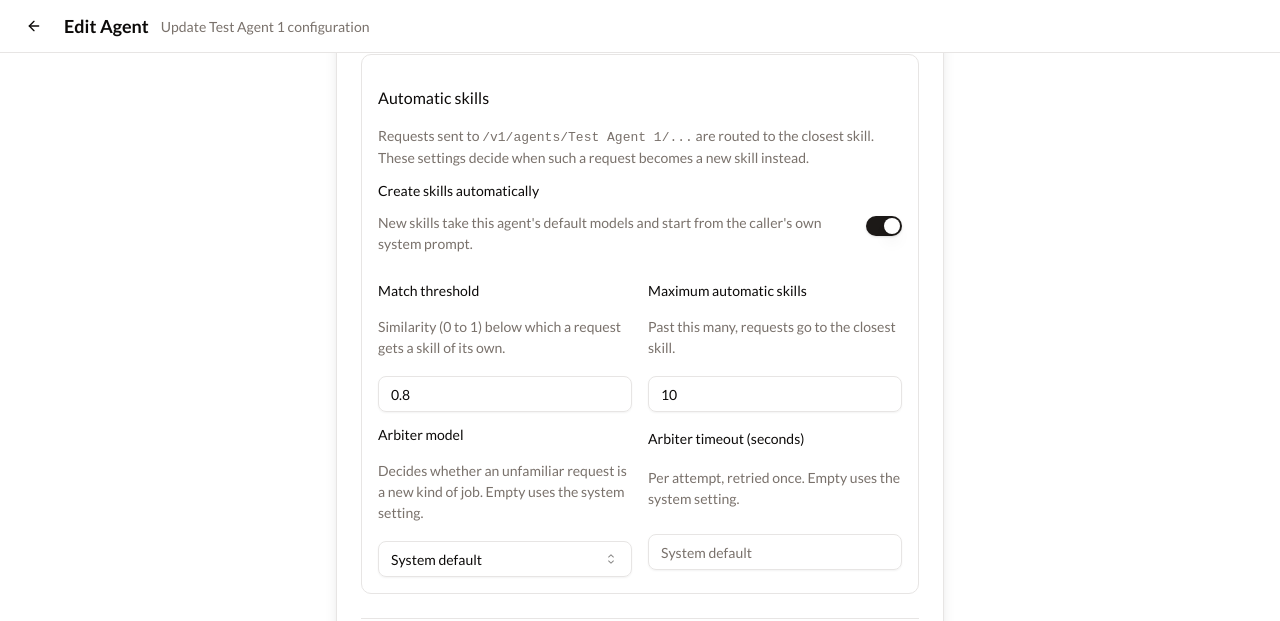
Test: EditAgentView › Automatic skills › refuses a threshold outside 0 to 1
(page scrolled)
Replace the text in the number field labelled "Match threshold" with "1.5": (505, 394) x1=378 y1=376 x2=632 y2=412
(page scrolled)
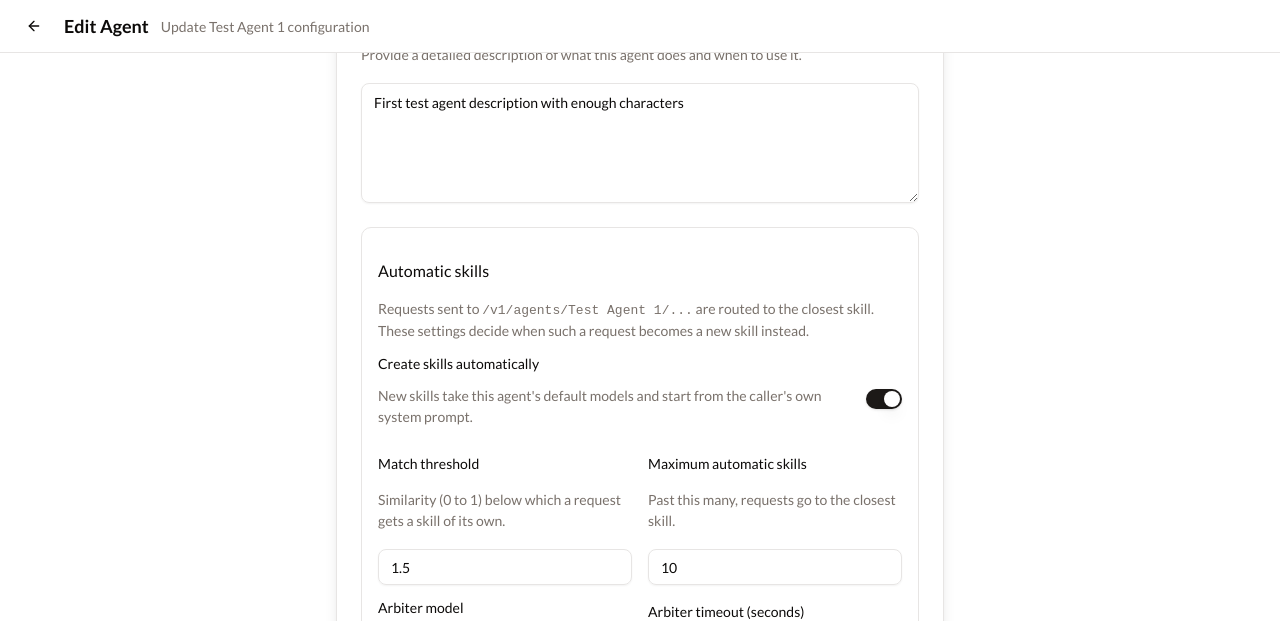
Submit the form
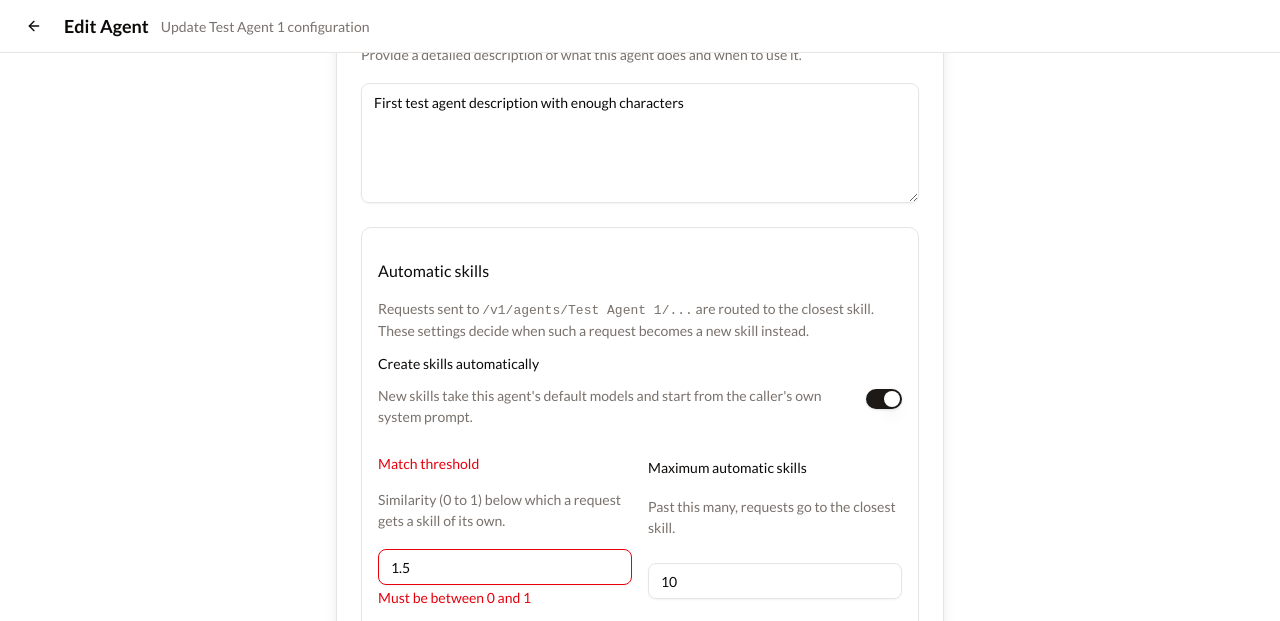
Expected: the text "Must be between 0 and 1" is shown, x1=378 y1=589 x2=531 y2=606
